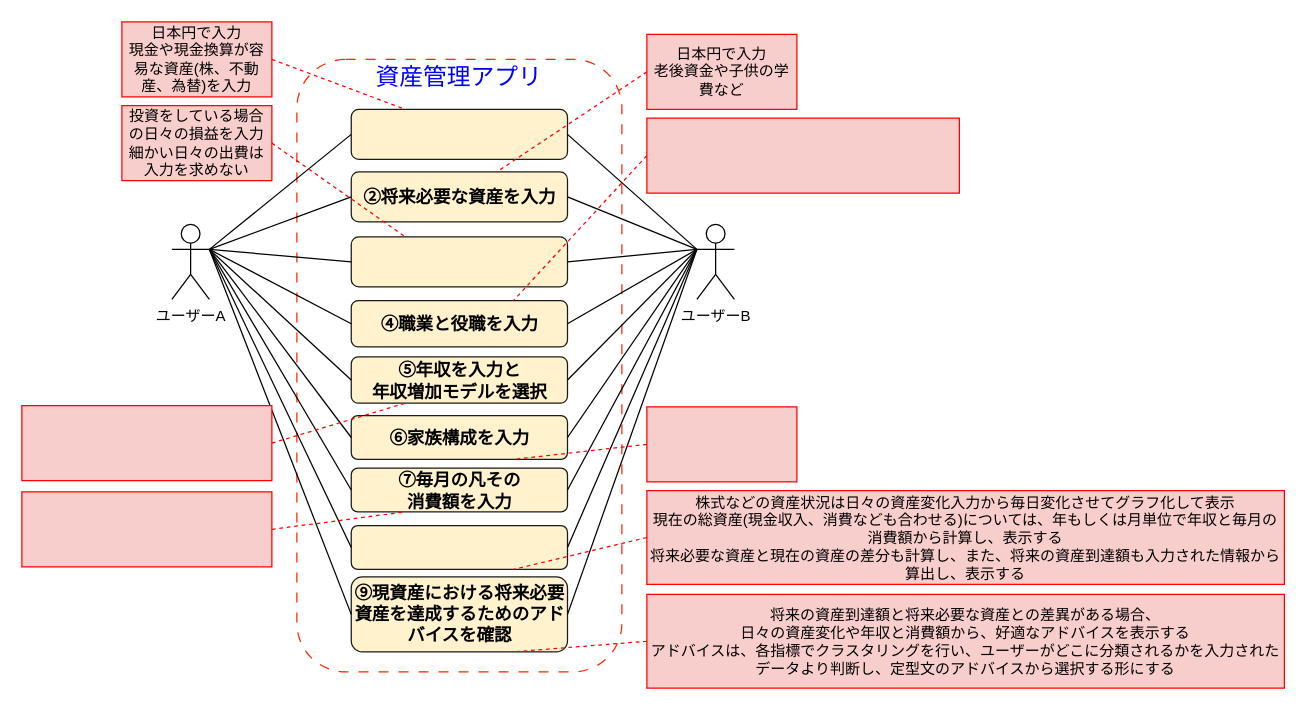
This 1306x710 diagram has some shape labels left out. The centre of each missing label's shape, as x and y in pixels:
①現状の資産を入力: pixel 459 133
③日々の資産変化を入力: pixel 459 261
⑧資産状況を確認: pixel 459 546
毎月の凡その消費額を入力 (食費、光熱費などのように細分化はしない⇒ユーザーが煩雑と感じる可能性があるため): pixel 146 529
現在の家族構成 もしくは将来の家族構成を入力: pixel 721 444
現在の年収を日本円で入力(収入を自動算出する) 予め用意しておいた将来の年収増加モデルをユーザーに選択してもらう: pixel 146 442
職業は、製造業、金融業、自営業など予め登録された中から選択 役職は、一般職、係長、課長、次長、部長、役員、社長等予め登録された中から選択: pixel 802 155
